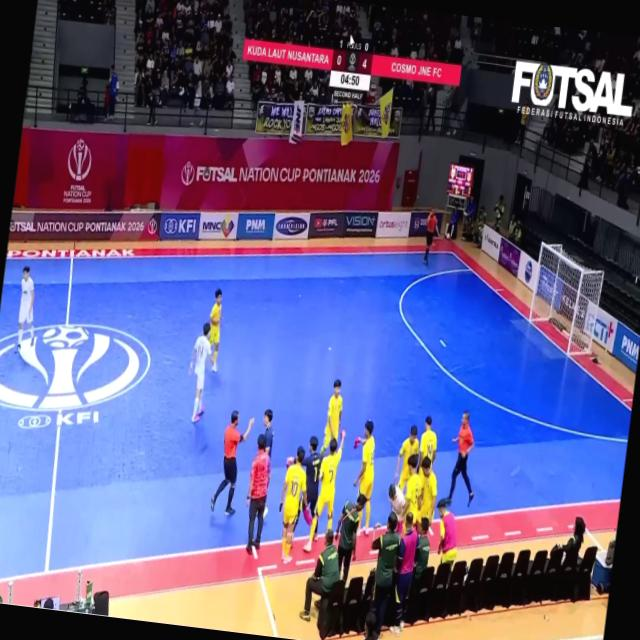keeper: (303, 437, 322, 514), (264, 410, 274, 460)
players: (304, 430, 345, 552), (280, 447, 308, 563), (354, 420, 375, 535), (189, 323, 211, 422), (321, 379, 343, 455), (394, 426, 419, 491), (17, 266, 34, 352), (417, 456, 437, 523), (404, 454, 421, 523), (208, 289, 222, 372), (419, 416, 437, 464)
referee: (211, 411, 254, 515), (448, 412, 474, 506), (423, 211, 437, 264)
